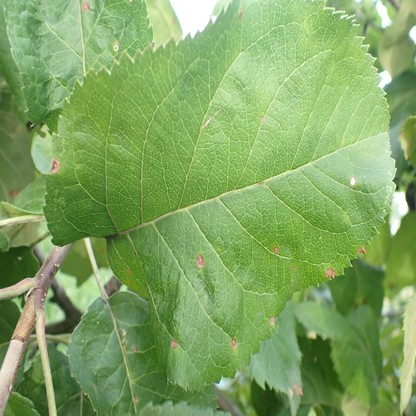frogeye_leaf_spot: (51, 157, 60, 174), (195, 253, 204, 268), (325, 267, 335, 278), (358, 246, 368, 254), (81, 4, 90, 12), (113, 40, 119, 52), (269, 315, 275, 325), (231, 338, 236, 348), (172, 338, 176, 348), (273, 246, 278, 254), (133, 346, 138, 352), (351, 177, 355, 184), (291, 265, 294, 271)
